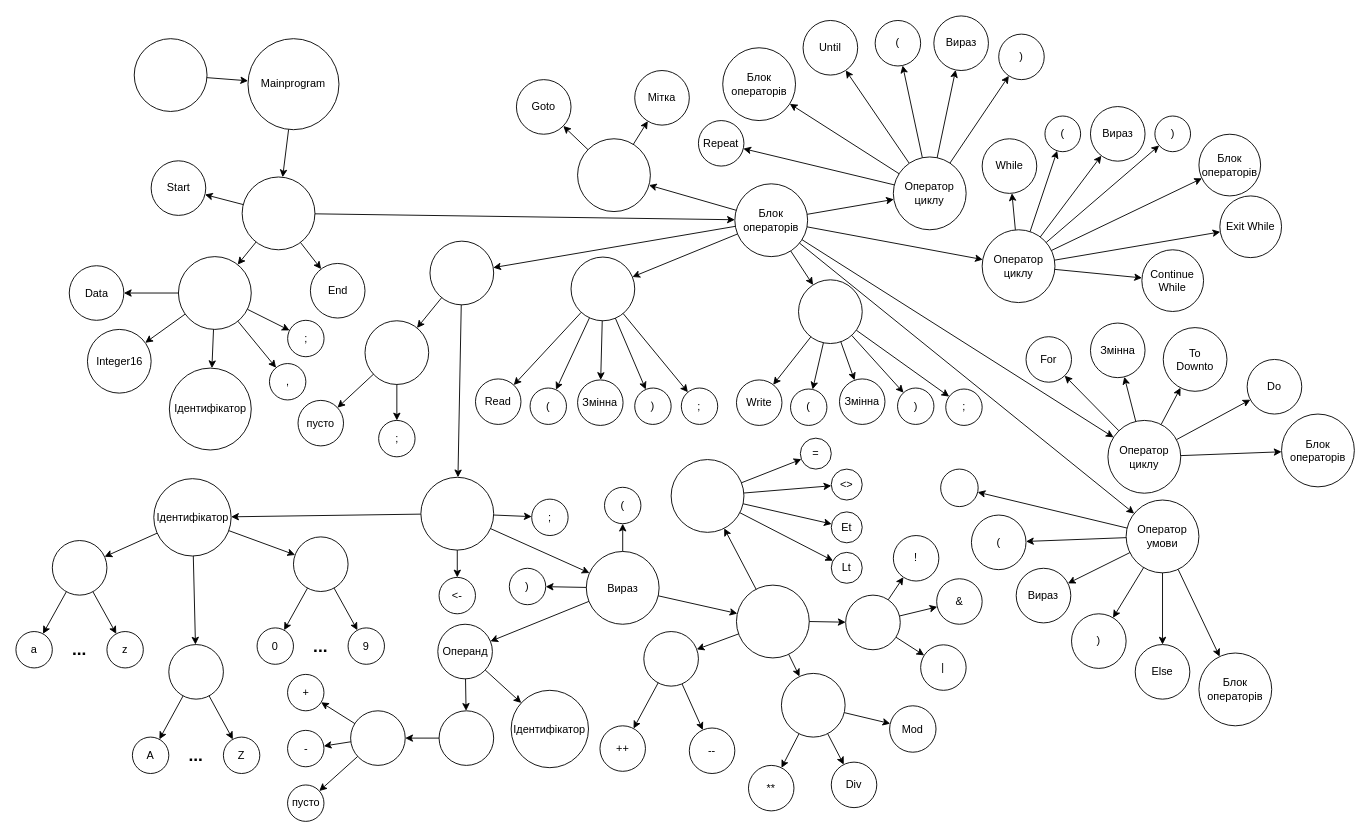
Image size: 1370x838. Some labels were removed from this diagram. Each missing label, with the centre of its shape:
"If" goes at pixel 959 487.
"Адитивна операція" goes at pixel 670 658.
"Блок змінних" goes at pixel 214 292.
"Блок коду" goes at pixel 278 213.
"Велика буква" goes at pixel 195 671.
"Знак" goes at pixel 377 737.
"Константа" goes at pixel 466 737.
"Логічна операція" goes at pixel 872 622.
"Мала буква" goes at pixel 79 567.
"Мультиплі кативна операція" goes at pixel 813 704.
"Оператор вводу" goes at pixel 602 288.
"Оператор виводу" goes at pixel 830 311.
"Оператор переходу" goes at pixel 613 175.
"Операції" goes at pixel 772 621.
"Операції порівняння" goes at pixel 707 495.
"Основна програма" goes at pixel 170 74.
"Порожній оператор" goes at pixel 396 352.
"Присвоєння" goes at pixel 457 513.
"Простий оператор" goes at pixel 461 272.
"Цифра" goes at pixel 320 564.
